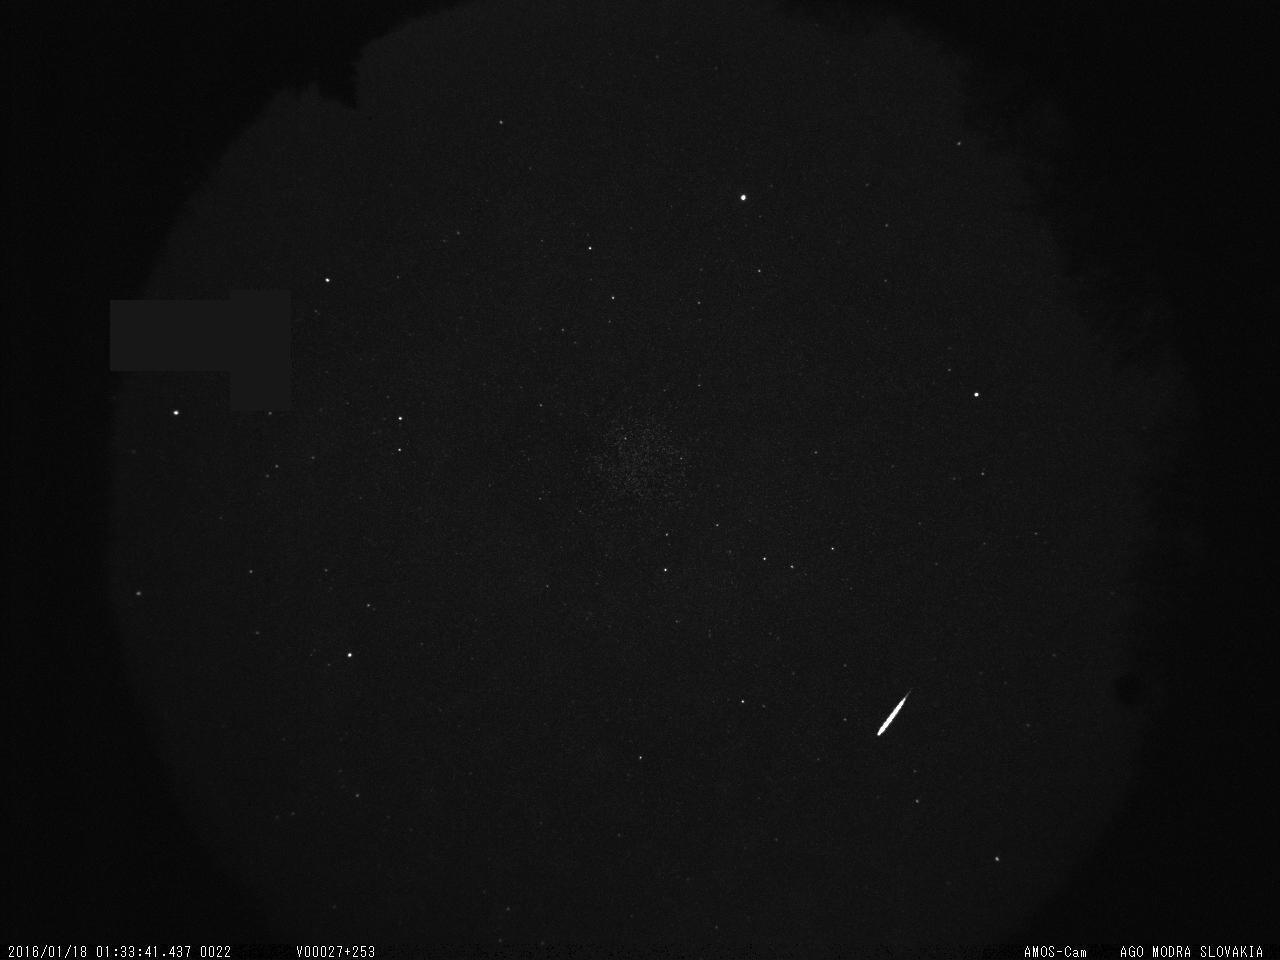meteor: (863, 668, 944, 765)
